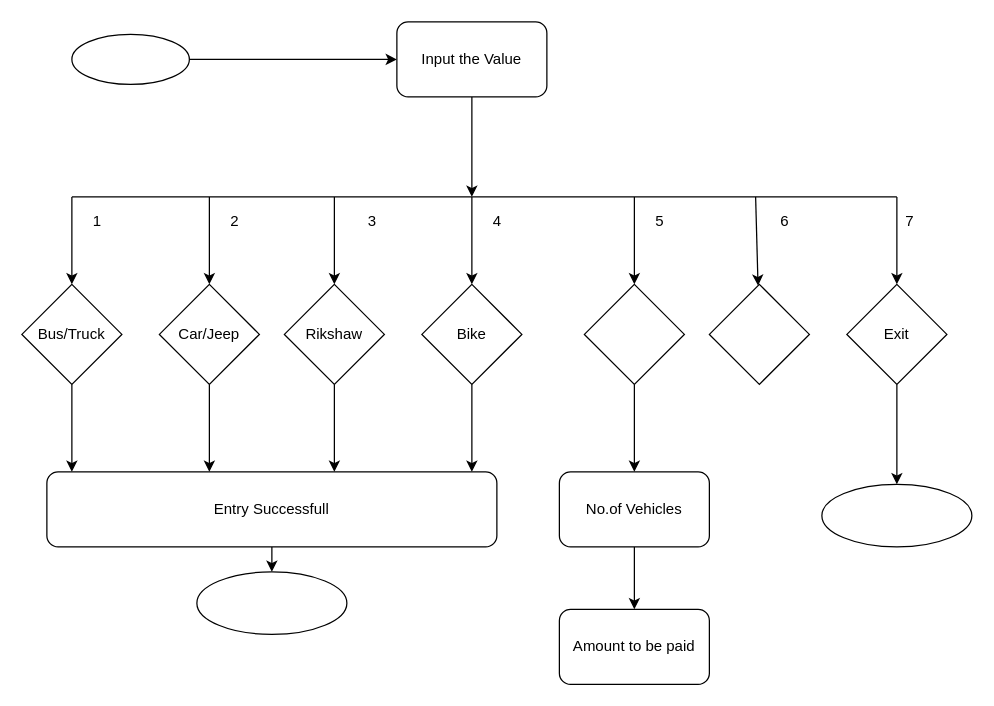
This 994x706 diagram has some shape labels left out. The box of each missing label's shape, as (x1, y1, x2, y2) in pixels:
Data Clear: (708, 283, 809, 384)
Status Check: (583, 283, 684, 384)
Stop: (821, 483, 972, 547)
Vehicle Input: (71, 33, 189, 84)
Vehicle registered: (196, 571, 347, 634)
